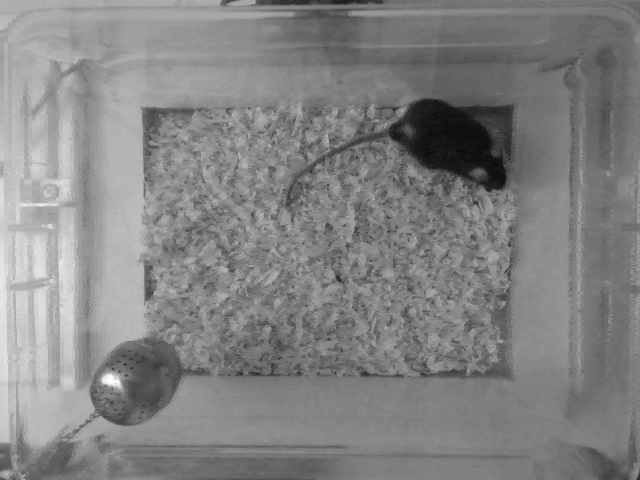mice: (283, 95, 518, 206)
